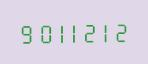nine: (17, 20, 32, 44)
one: (49, 20, 64, 44), (97, 19, 112, 43), (65, 20, 80, 43)
two: (81, 19, 96, 43), (113, 19, 128, 43)
zero: (33, 20, 48, 44)
